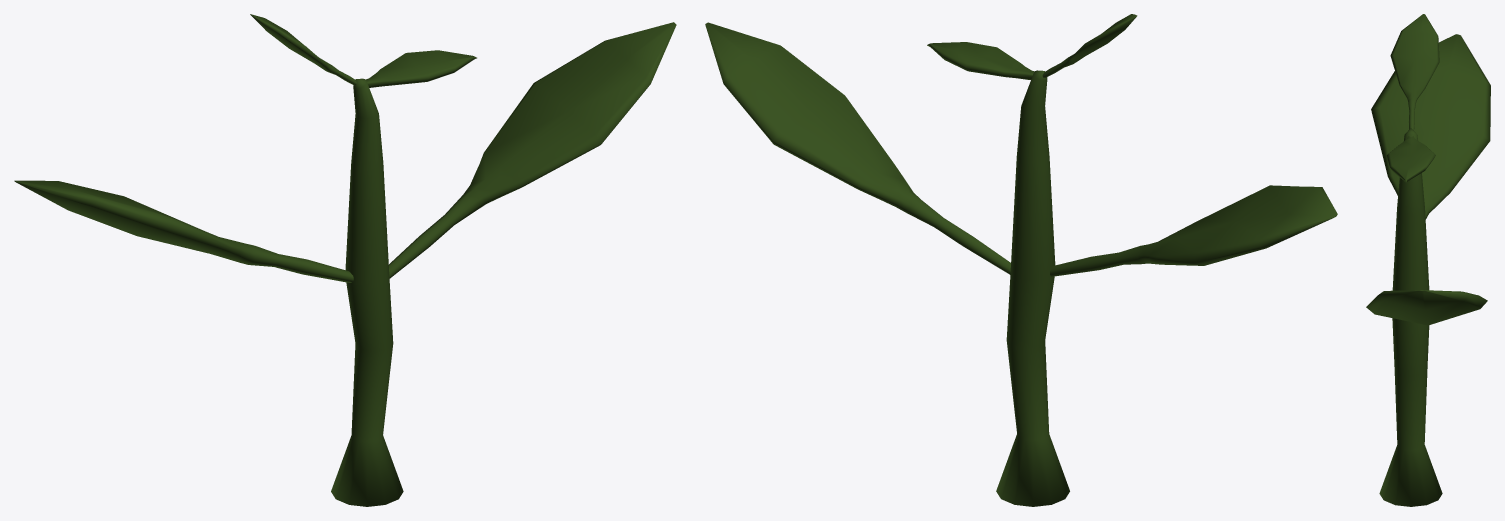
The model's file is Sapling.fbx.
3 renders of one model, left to right at view 1: azimuth 30°, elevation 25°; view 2: azimuth 150°, elevation 25°; view 3: azimuth 270°, elevation 25°, orthographic. The views are drawn at different scales.
Parts seen in each view (by area): view 1: Sapling; view 2: Sapling; view 3: Sapling.
Part boxes in pixels (box(x1,y1,x2,y2)): Sapling: box(14, 14, 676, 506); Sapling: box(705, 14, 1337, 506); Sapling: box(1366, 14, 1490, 506).
Size of the model in its own units: 151 by 112 by 29.35.
